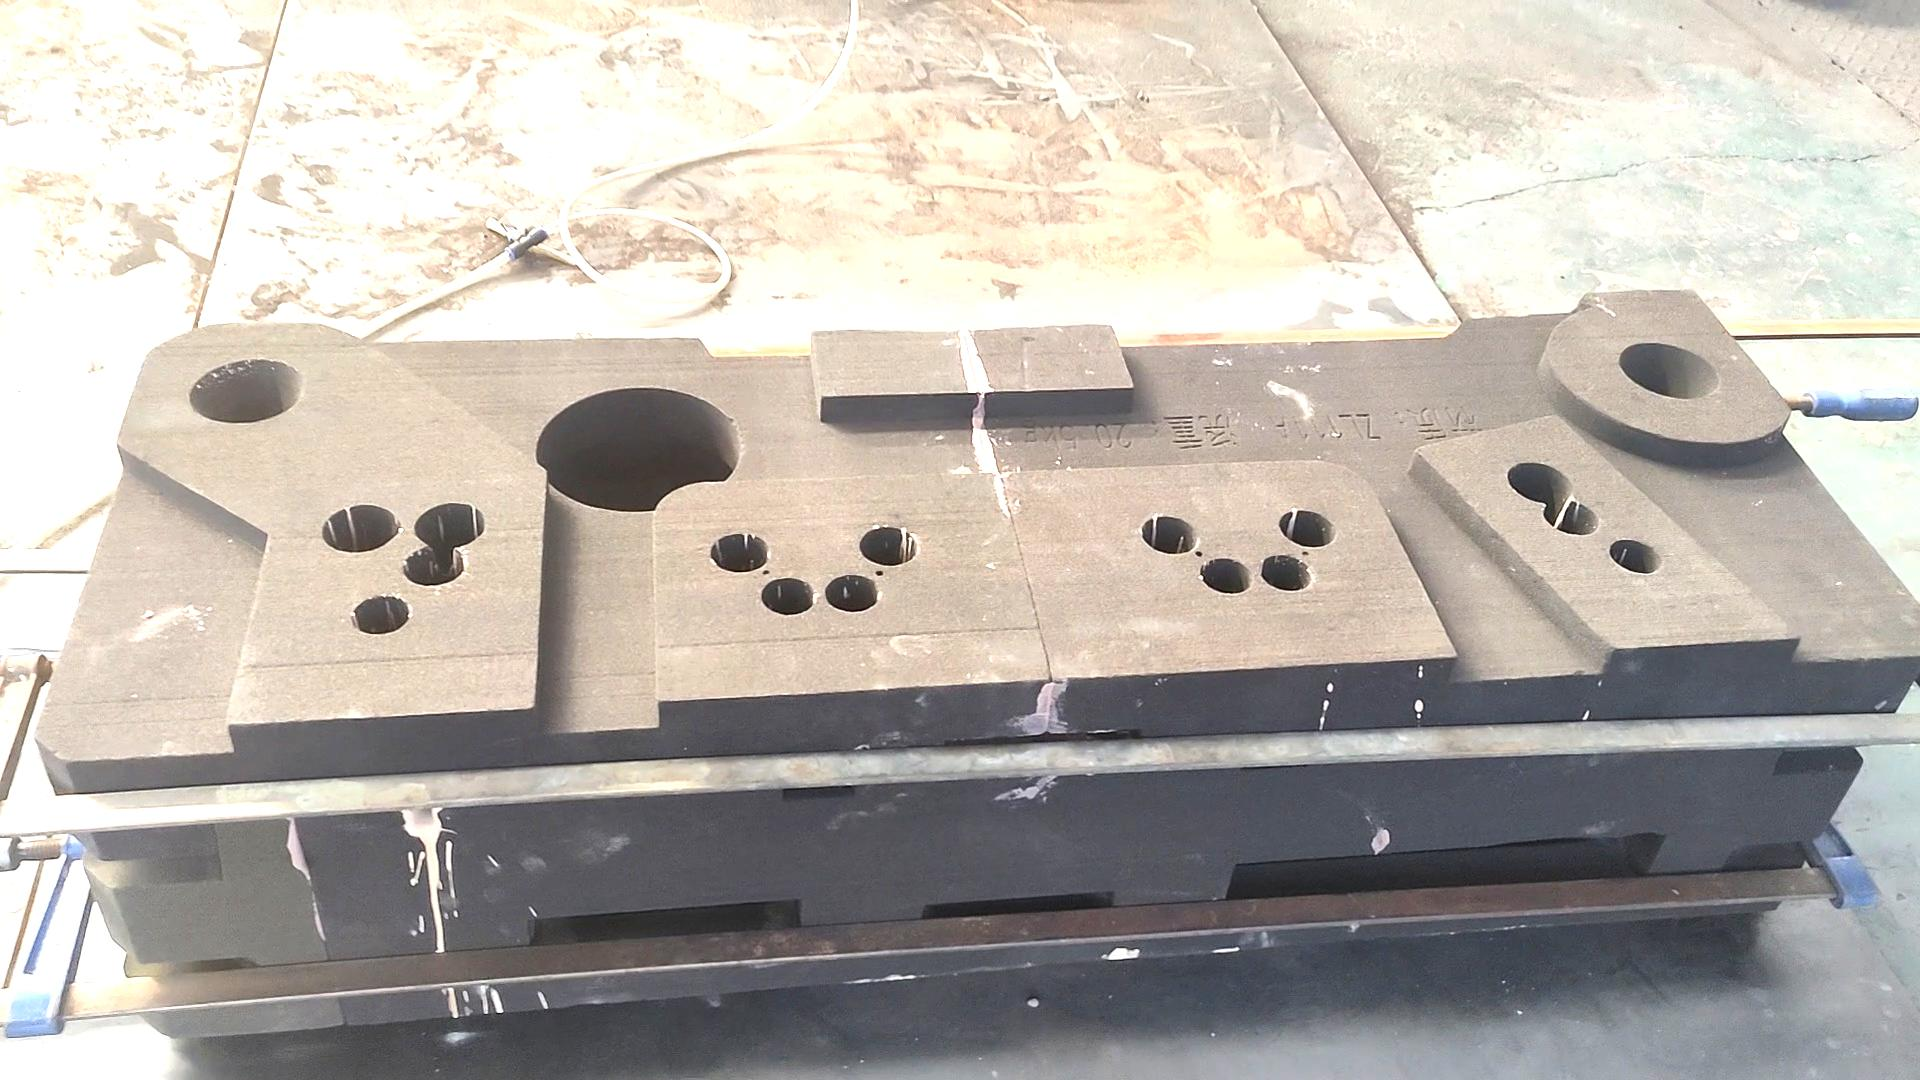pouring hole: (186, 357, 305, 425), (1617, 339, 1720, 400)
